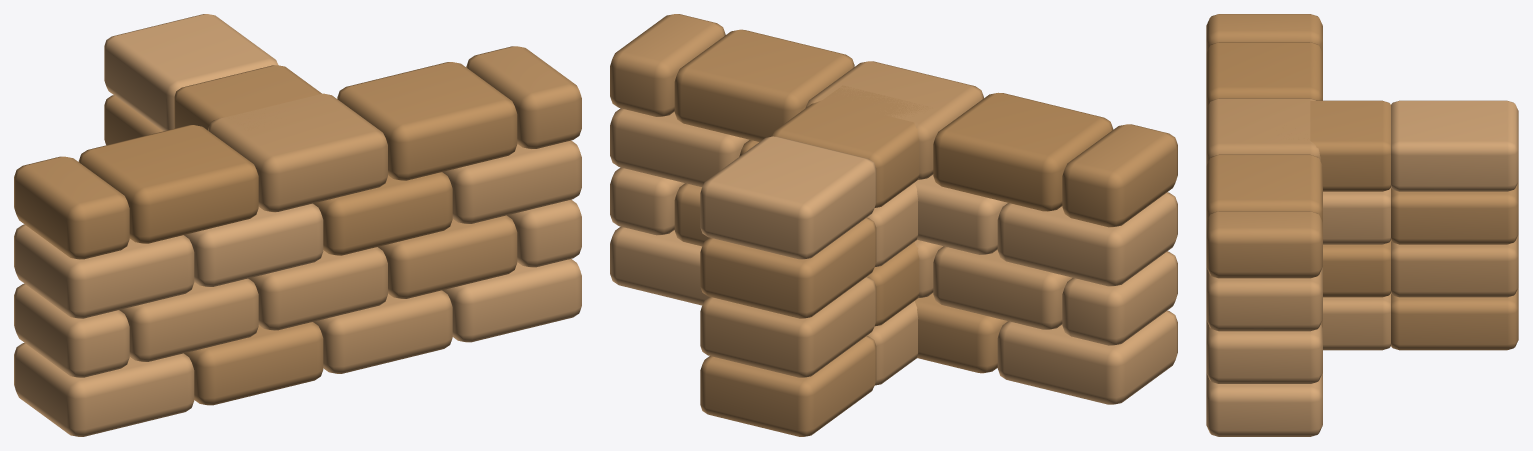
The model's file is NJD-11.glb.
The picture shows the model from 3 angles, left to right: view 1: azimuth 30°, elevation 25°; view 2: azimuth 150°, elevation 25°; view 3: azimuth 270°, elevation 25°; orthographic projection. The views are drawn at different scales.
Parts seen in each view (by area): view 1: rounded adobe block.016, rounded adobe block.014, rounded adobe block.015, return wall.007, rounded adobe block.009, rounded adobe block, rounded adobe block.013, rounded adobe block.002, rounded adobe block.006, rounded adobe block.001, rounded adobe block.003, rounded adobe block.011 (+9 smaller); view 2: return wall.007, rounded adobe block.014, rounded adobe block.016, rounded adobe block, rounded adobe block.009, return wall.003, return wall.001, return wall.005, return wall.006, rounded adobe block.013, rounded adobe block.005, rounded adobe block.012 (+12 smaller); view 3: return wall.007, rounded adobe block.017, return wall.001, return wall.005, return wall.003, return wall.006, rounded adobe block.016, rounded adobe block.014, rounded adobe block.012, rounded adobe block.003, rounded adobe block.008, rounded adobe block.015 (+4 smaller).
Boxes of the visible parts, box(x1,y1,x2,y2) form: rounded adobe block.016: box(337, 62, 517, 180); rounded adobe block.014: box(78, 125, 258, 243); rounded adobe block.015: box(208, 93, 387, 212); return wall.007: box(104, 14, 278, 131); rounded adobe block.009: box(14, 224, 194, 318); rounded adobe block: box(14, 343, 194, 436); rounded adobe block.013: box(14, 156, 129, 259); rounded adobe block.002: box(313, 290, 452, 373); rounded adobe block.006: box(248, 247, 387, 330); rounded adobe block.001: box(184, 322, 323, 405); rounded adobe block.003: box(442, 259, 581, 342); rounded adobe block.011: box(313, 172, 452, 255); return wall.007: box(700, 136, 876, 259); rounded adobe block.014: box(933, 92, 1113, 211); rounded adobe block.016: box(674, 29, 854, 141); rounded adobe block: box(997, 310, 1177, 404); rounded adobe block.009: box(997, 192, 1177, 286); return wall.003: box(700, 277, 876, 377); return wall.001: box(700, 336, 876, 436); return wall.005: box(700, 217, 876, 318); return wall.006: box(772, 85, 932, 207); rounded adobe block.013: box(1062, 124, 1177, 227); rounded adobe block.005: box(933, 246, 1072, 329); rounded adobe block.012: box(610, 108, 749, 186); return wall.007: box(1391, 100, 1518, 191); rounded adobe block.017: box(1206, 211, 1322, 278); return wall.001: box(1391, 287, 1518, 350); return wall.005: box(1391, 182, 1518, 244); return wall.003: box(1391, 235, 1518, 297); return wall.006: box(1291, 100, 1390, 191); rounded adobe block.016: box(1206, 154, 1322, 222); rounded adobe block.014: box(1206, 42, 1322, 109); rounded adobe block.012: box(1206, 267, 1322, 331); rounded adobe block.003: box(1206, 373, 1322, 436); rounded adobe block.008: box(1206, 324, 1322, 383); rounded adobe block.015: box(1206, 98, 1320, 165).
Bounding box in the file's own units: 1.91 × 0.83 × 1.12.
